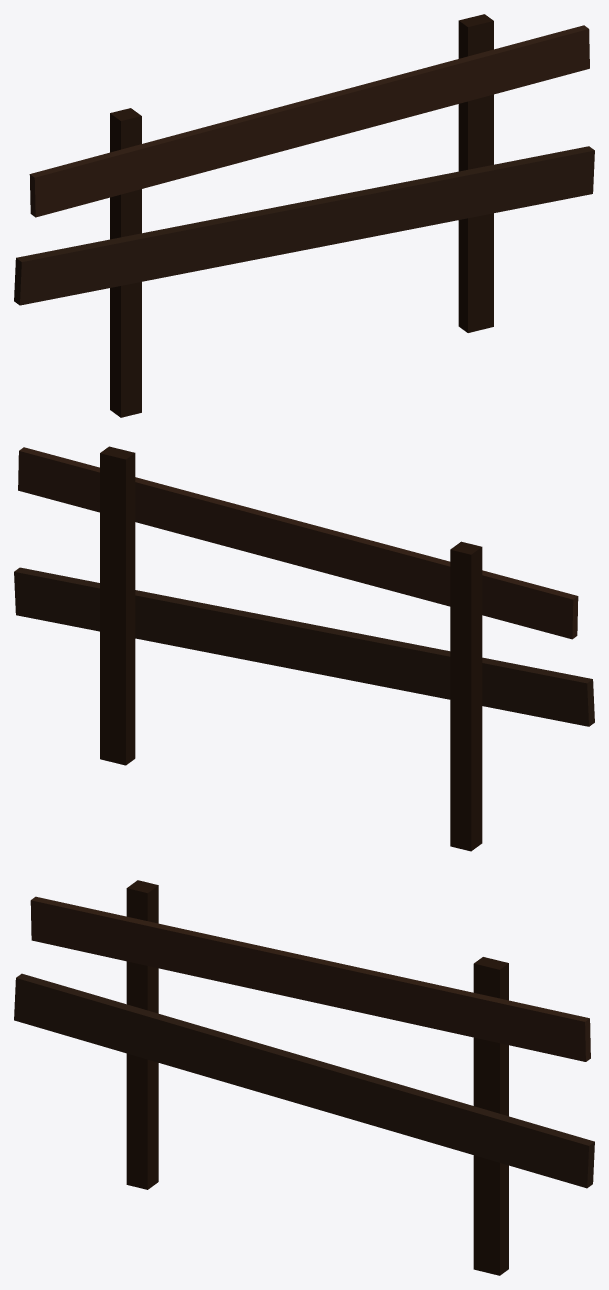
The model's file is Fence02.FBX.
3 renders of one model, top to bottom at view 1: azimuth 30°, elevation 25°; view 2: azimuth 150°, elevation 25°; view 3: azimuth 330°, elevation 25°, orthographic.
Parts seen in each view (by area): view 1: LowerBoard003, UpperBoard002, Posts003; view 2: LowerBoard003, UpperBoard002, Posts003; view 3: LowerBoard003, UpperBoard002, Posts003.
Part boxes in pixels (x1,y1,x2,y2): LowerBoard003: [14, 146, 594, 305]; UpperBoard002: [29, 25, 589, 217]; Posts003: [110, 14, 493, 417]; LowerBoard003: [14, 567, 594, 726]; UpperBoard002: [18, 447, 578, 639]; Posts003: [100, 446, 482, 851]; LowerBoard003: [14, 973, 594, 1188]; UpperBoard002: [30, 896, 590, 1061]; Posts003: [126, 880, 508, 1275].
Size of the model in its own units: 231 by 117 by 11.71.
